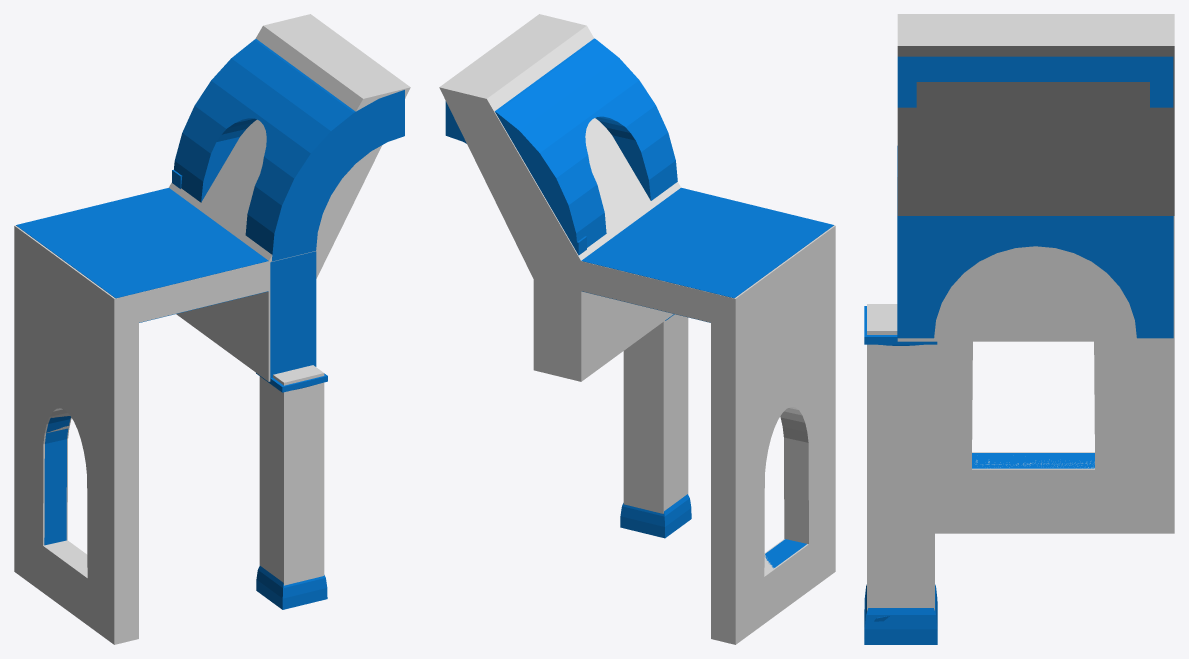
The model's file is Normal.gltf.
3 views of the same model, side by side, from view 1: azimuth 30°, elevation 25°; view 2: azimuth 150°, elevation 25°; view 3: azimuth 270°, elevation 25° (orthographic). The views are drawn at different scales.
Visible parts, largest first — view 1: COL.001, 円.002, COL; view 2: COL.001, 円.002, COL; view 3: COL.001, 円.002, COL.
Part boxes in pixels (x1,y1,x2,y2): COL.001: (14,14,410,644); 円.002: (16,39,404,609); COL: (259,365,324,585); COL.001: (439,14,835,644); 円.002: (445,38,833,568); COL: (623,314,688,513); COL.001: (897,14,1174,533); 円.002: (864,56,1173,644); COL: (867,304,934,610).
Size of the model in its own units: 26.78 by 41.89 by 17.58.
